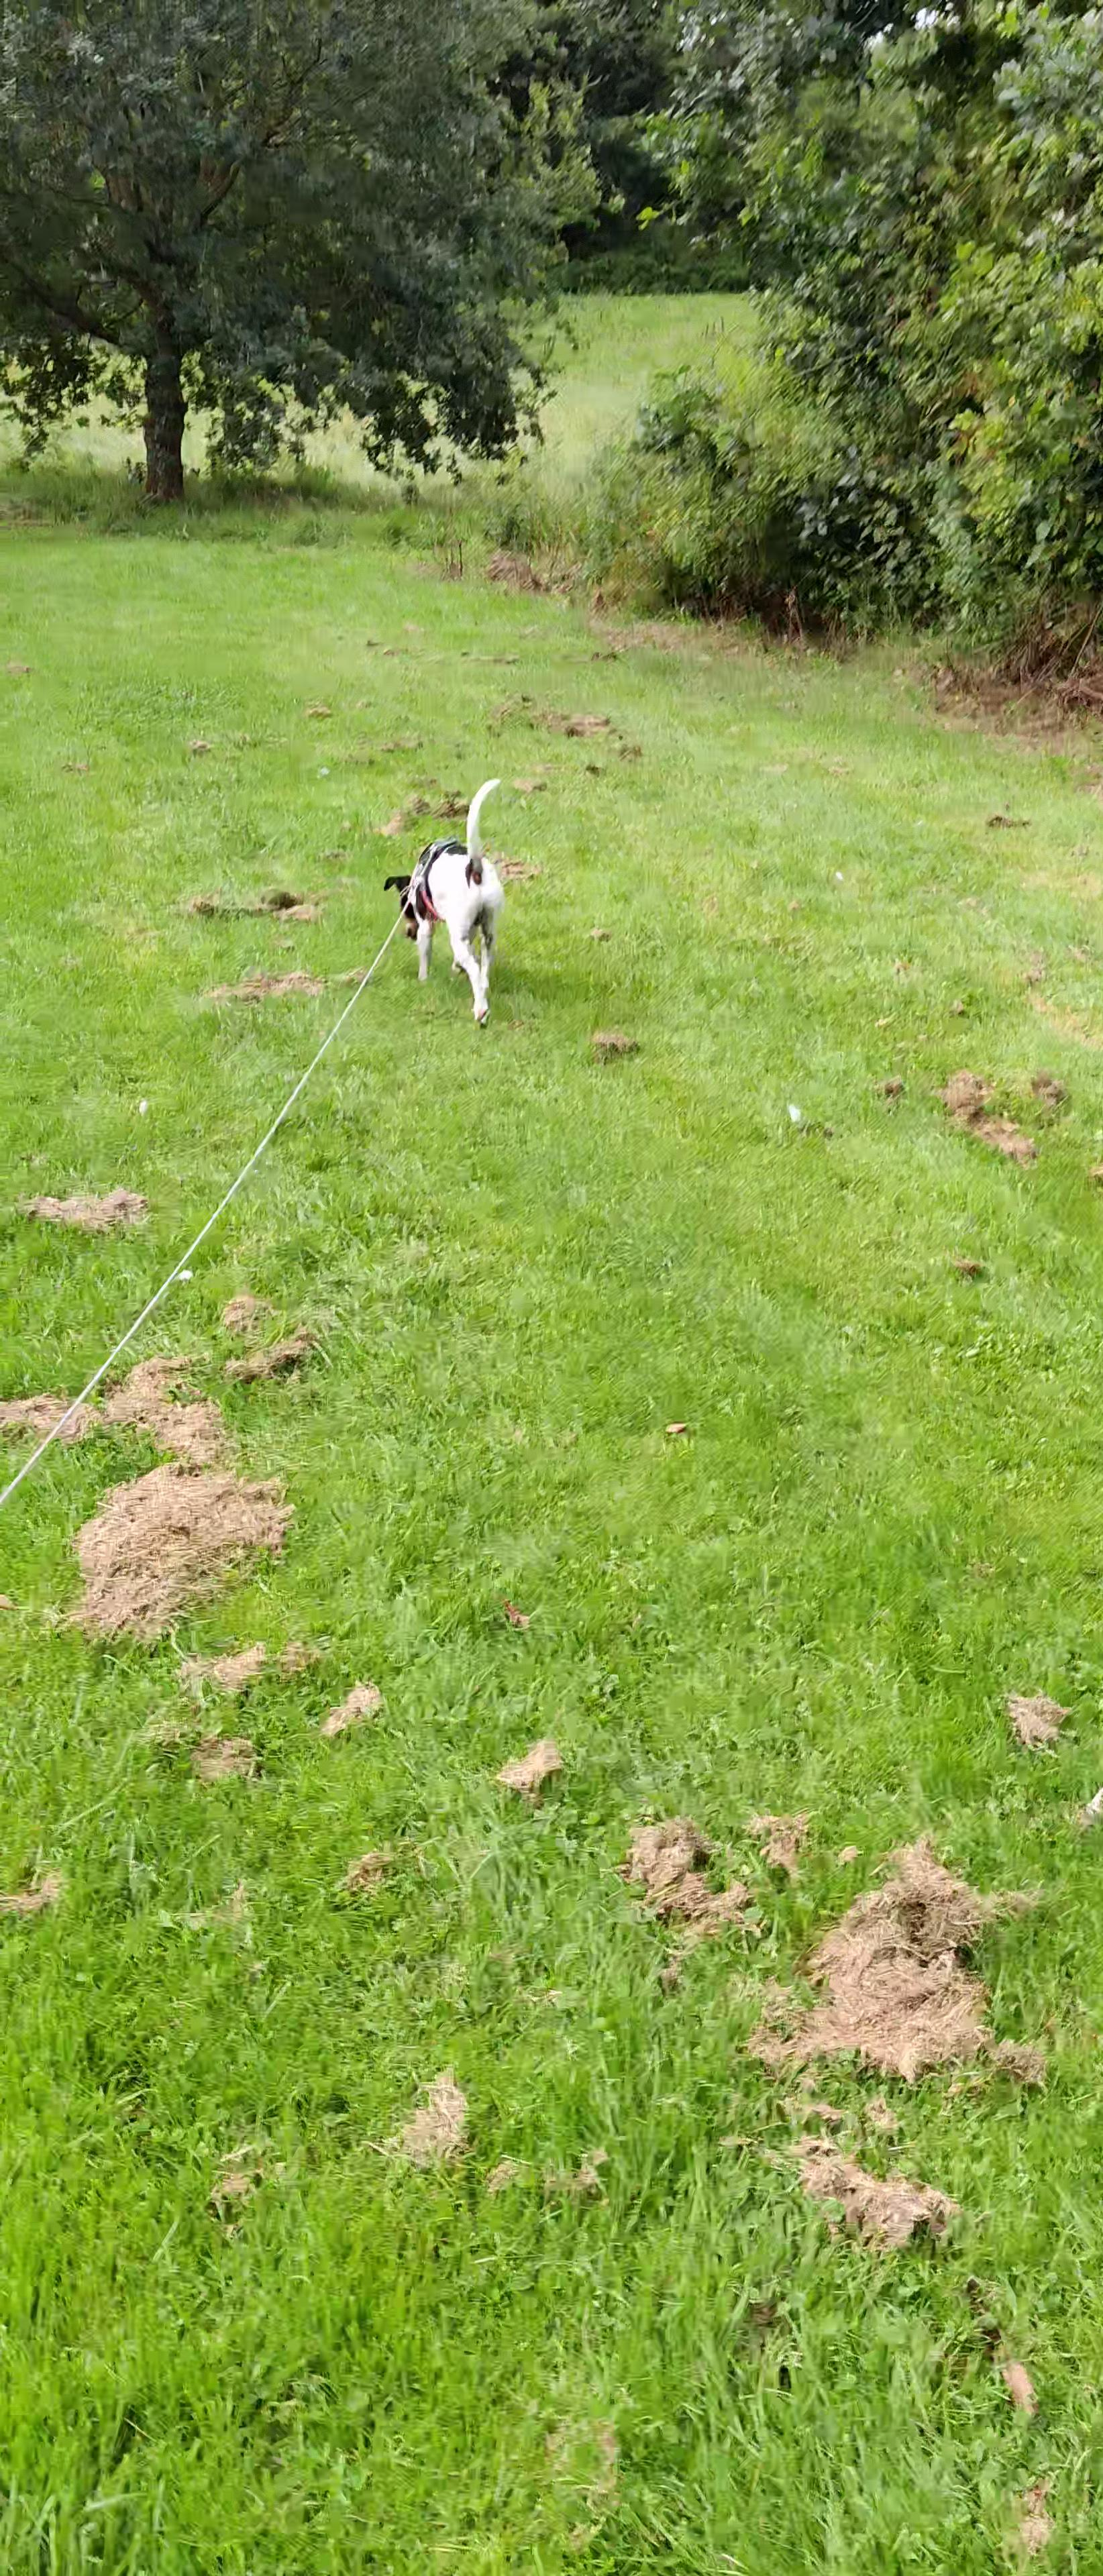Dog: (362, 762, 544, 1040)
